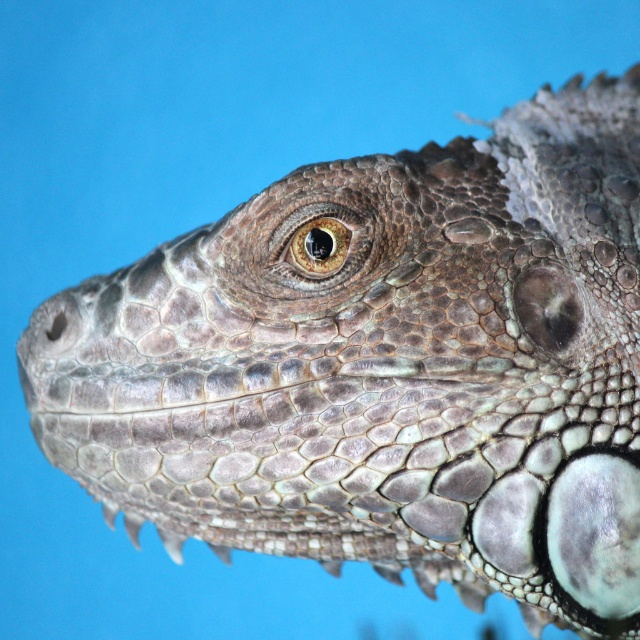Lizard: (20, 110, 640, 640)
